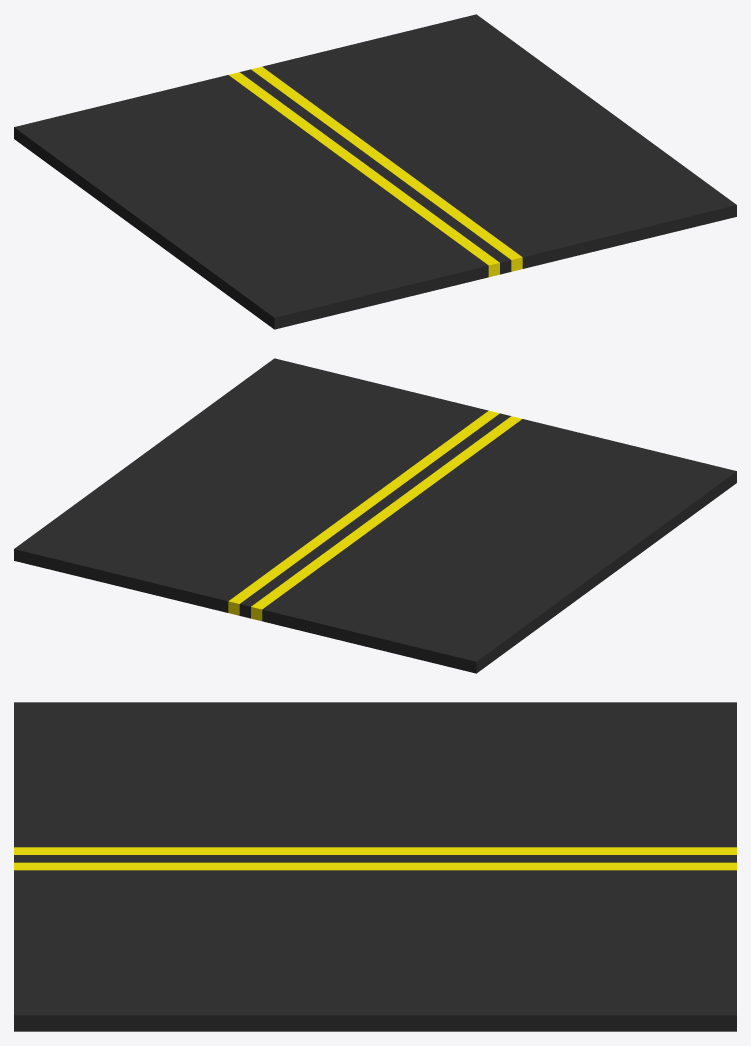
The model's file is town_model-1.obj.
3 renders of one model, top to bottom at view 1: azimuth 30°, elevation 25°; view 2: azimuth 150°, elevation 25°; view 3: azimuth 270°, elevation 25°, orthographic. The views are drawn at different scales.
Visible parts, largest first — view 1: town_model-1; view 2: town_model-1; view 3: town_model-1.
Part boxes in pixels (<box>): town_model-1: <box>14,14,736,329</box>; town_model-1: <box>14,358,736,673</box>; town_model-1: <box>14,702,736,1031</box>.
Bounding box in the file's own units: 41 × 1 × 40.
Materials: 1 (1 with a texture image).
